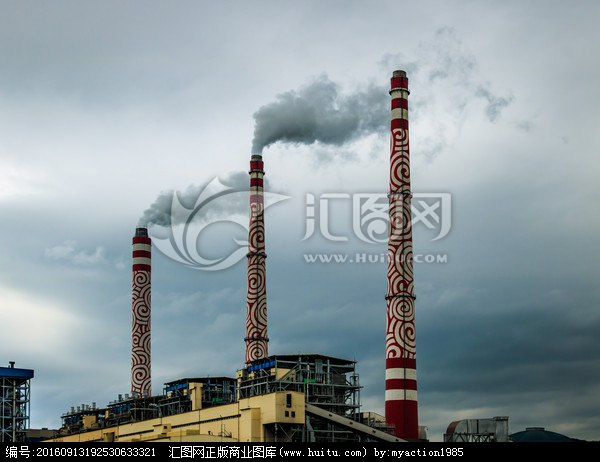dust: (219, 68, 395, 161), (114, 166, 262, 241)
